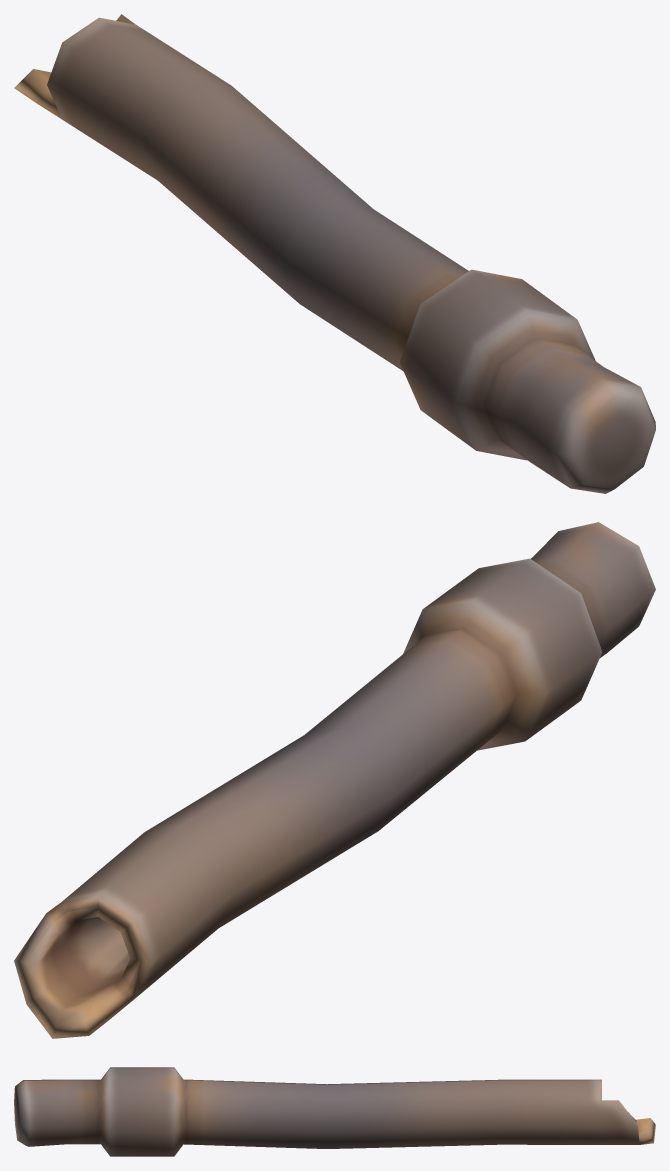
The model's file is Scrap_01.fbx.
3 renders of one model, top to bottom at view 1: azimuth 30°, elevation 25°; view 2: azimuth 150°, elevation 25°; view 3: azimuth 270°, elevation 25°, orthographic. The views are drawn at different scales.
Visible parts, largest first — view 1: Scrap_01; view 2: Scrap_01; view 3: Scrap_01.
Boxes of the visible parts, left/top/right/bottom form: Scrap_01: left=14, top=14, right=655, bottom=493; Scrap_01: left=14, top=522, right=655, bottom=1038; Scrap_01: left=14, top=1067, right=655, bottom=1156.
Bounding box in the file's own units: 4.42 × 4.42 × 29.79.
